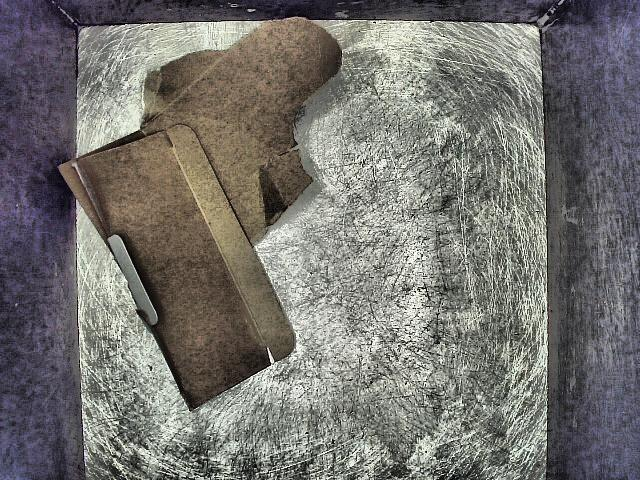Paper: (57, 1, 372, 421)
